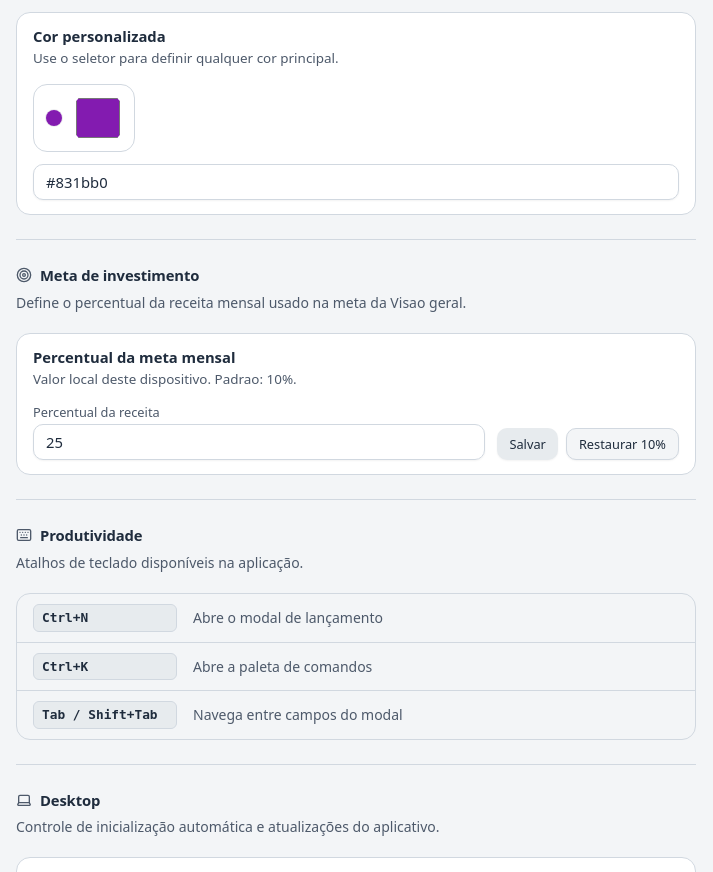
Scenario: SettingsView › restores the default investment goal percent
The width and height of the screenshot is (713, 872).
(page scrolled)
Click the button "Restaurar 10%": (622, 444) [566,428,679,460]
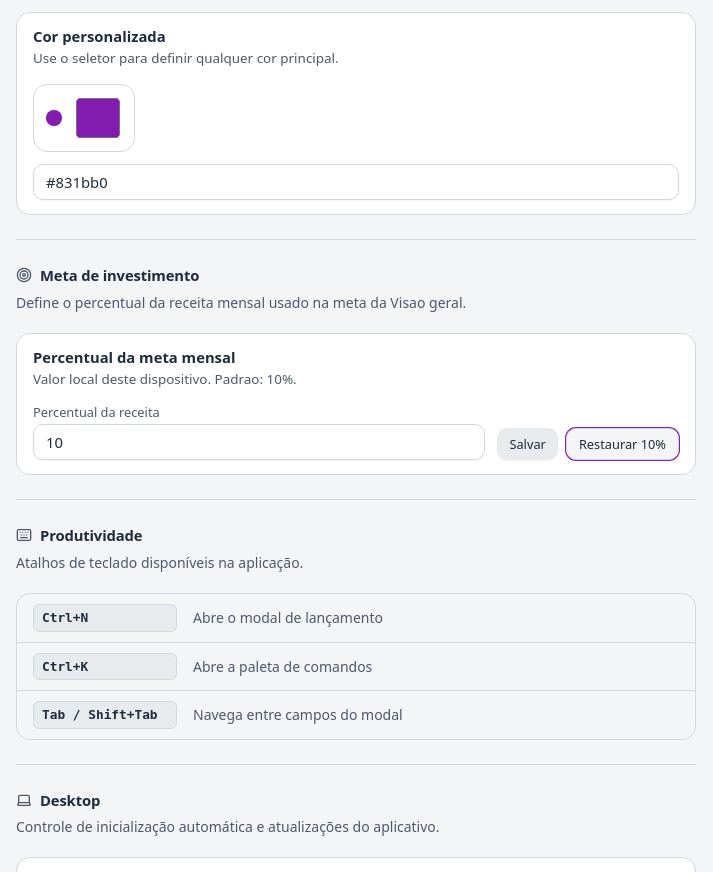
Expected: the number field labelled "Percentual da receita" holds "10", [33,424,485,460]
